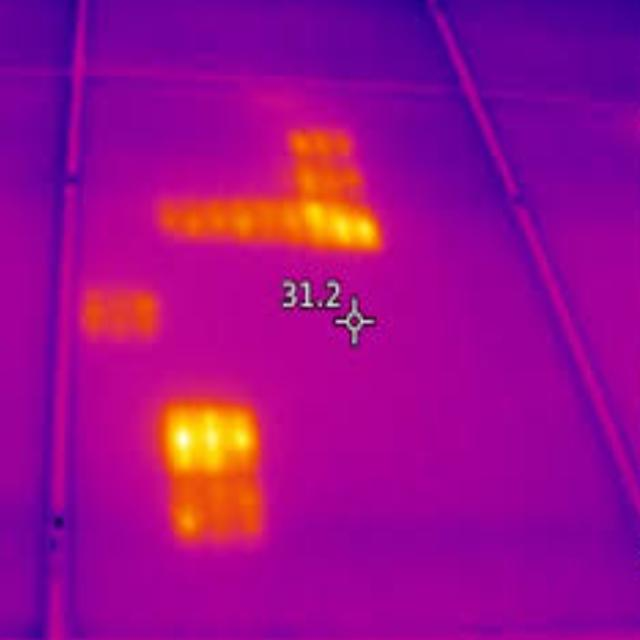hotspot group: (155, 113, 402, 254), (157, 372, 276, 557), (76, 273, 178, 359)
panel with hotspots: (56, 69, 640, 640)
